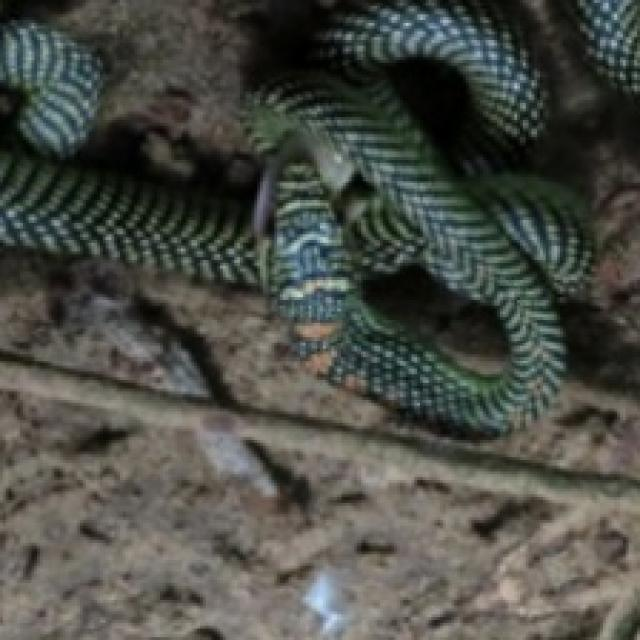paradise tree snake: (0, 0, 592, 432), (572, 0, 640, 99)
